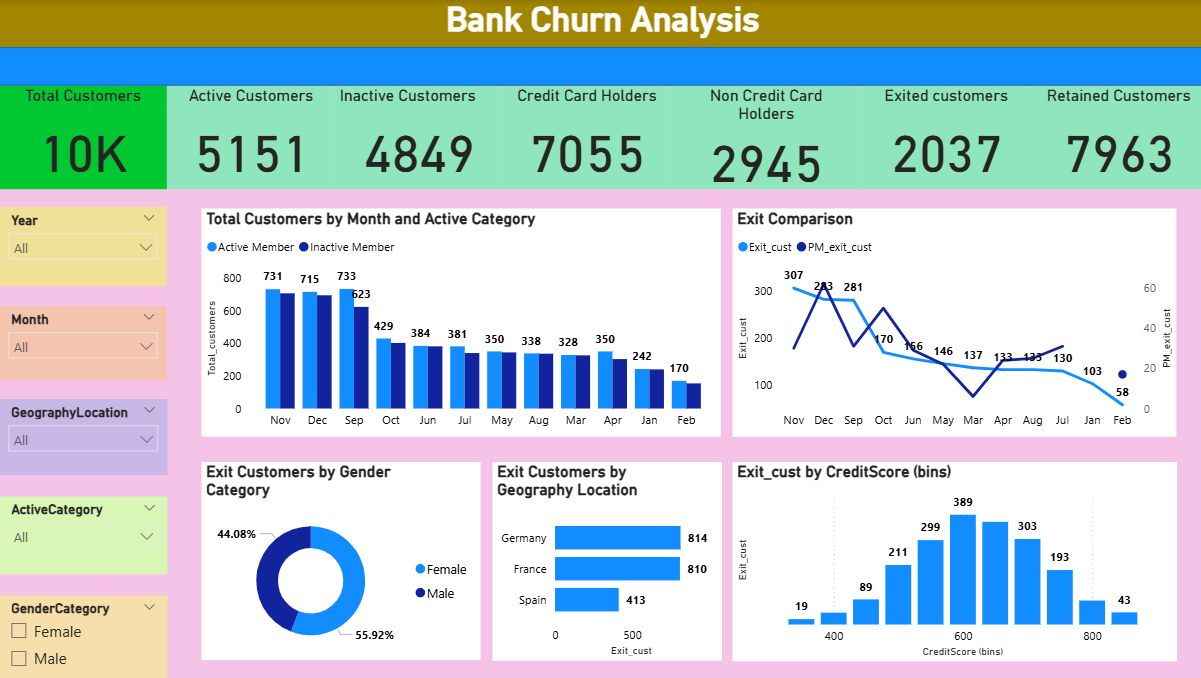

The dashboard page shown, as its layout file describes it:
{"tool":"powerbi","page":{"name":"Churn Analysis","canvas":[1280,720],"ordinal":0},"visuals":[{"type":"card","title":"Total Customers","fields":{"Values":["Table_1.Total_customers"]},"box":[0,90.7,178.1,110.1],"z":0},{"type":"card","title":"Active Customers","fields":{"Values":["Table_1.Active_Cust"]},"box":[178.1,90.7,178.1,110.1],"z":1000},{"type":"card","title":"Inactive Customers","fields":{"Values":["Table_1.Inactive_cust"]},"box":[356.2,90.7,178.1,110.1],"z":2000},{"type":"card","title":"Credit Card Holders","fields":{"Values":["Table_1.CC_holder"]},"box":[534.3,90.7,178.1,110.1],"z":3000},{"type":"card","title":"Non Credit Card Holders","fields":{"Values":["Table_1.No_CC"]},"box":[712.6,90.7,202,109.8],"z":4000},{"type":"card","title":"Exited customers","fields":{"Values":["Table_1.Exit_cust"]},"box":[914.6,90.7,179.7,109.8],"z":5000},{"type":"card","title":"Retained Customers","fields":{"Values":["Table_1.Retained_cust"]},"box":[1094.3,90.7,186.1,109.8],"z":6000},{"type":"clusteredColumnChart","title":"Total Customers by Month and Active Category","fields":{"Category":["Calendar_formula.Month"],"Y":["Table_1.Total_customers"],"Series":["Active customers.ActiveCategory"]},"box":[214.7,221.1,550.4,241.8],"z":7000},{"type":"donutChart","title":"Exit Customers by Gender Category","fields":{"Category":["Gender.GenderCategory"],"Y":["Table_1.Exit_cust"]},"box":[214.7,489.9,295.9,210],"z":8000},{"type":"clusteredBarChart","title":"Exit Customers by Geography Location","fields":{"Y":["Table_1.Exit_cust"],"Category":["Geography.GeographyLocation"]},"box":[522.5,490.1,243,210.6],"z":9000},{"type":"lineChart","title":"Exit Comparison","fields":{"Y":["Table_1.Exit_cust"],"Category":["Calendar_formula.Month"],"Y2":["Table_1.PM_exit_cust"]},"box":[777.8,221.1,470.8,241.8],"z":10000},{"type":"slicer","fields":{"Values":["Calendar_formula.Year"]},"box":[0,220.2,178.1,84.2],"z":11000},{"type":"slicer","fields":{"Values":["Calendar_formula.Month"]},"box":[0,324.1,178.2,79],"z":12000},{"type":"slicer","fields":{"Values":["Geography.GeographyLocation"]},"box":[0,423.1,178.8,80.8],"z":13000},{"type":"slicer","fields":{"Values":["Active customers.ActiveCategory"]},"box":[0,526.9,178.8,82.7],"z":14000},{"type":"slicer","fields":{"Values":["Gender.GenderCategory"]},"box":[0,630.8,178.8,88.5],"z":15000},{"type":"shape","title":"Bank Churn Analysis","box":[0,0,1280.8,90.4],"z":16000},{"type":"clusteredColumnChart","fields":{"Category":["Bank_Churn.CreditScore (bins)"],"Y":["Table_1.Exit_cust"]},"box":[778,490,471,211],"z":16001}]}

Visuals, with their boxes in screenshot pixels (x1, y1, x2, y2), scaled from the page's 1280x720 canvas onto the 1201x678 screenshot:
"Total Customers" card: {"x1": 0, "y1": 85, "x2": 167, "y2": 189}
"Active Customers" card: {"x1": 167, "y1": 85, "x2": 334, "y2": 189}
"Inactive Customers" card: {"x1": 334, "y1": 85, "x2": 501, "y2": 189}
"Credit Card Holders" card: {"x1": 501, "y1": 85, "x2": 668, "y2": 189}
"Non Credit Card Holders" card: {"x1": 669, "y1": 85, "x2": 858, "y2": 189}
"Exited customers" card: {"x1": 858, "y1": 85, "x2": 1027, "y2": 189}
"Retained Customers" card: {"x1": 1027, "y1": 85, "x2": 1200, "y2": 189}
"Total Customers by Month and Active Category" clusteredColumnChart: {"x1": 201, "y1": 208, "x2": 718, "y2": 436}
"Exit Customers by Gender Category" donutChart: {"x1": 201, "y1": 461, "x2": 479, "y2": 659}
"Exit Customers by Geography Location" clusteredBarChart: {"x1": 490, "y1": 462, "x2": 718, "y2": 660}
"Exit Comparison" lineChart: {"x1": 730, "y1": 208, "x2": 1172, "y2": 436}
slicer - Calendar_formula.Year: {"x1": 0, "y1": 207, "x2": 167, "y2": 287}
slicer - Calendar_formula.Month: {"x1": 0, "y1": 305, "x2": 167, "y2": 380}
slicer - Geography.GeographyLocation: {"x1": 0, "y1": 398, "x2": 168, "y2": 475}
slicer - Active customers.ActiveCategory: {"x1": 0, "y1": 496, "x2": 168, "y2": 574}
slicer - Gender.GenderCategory: {"x1": 0, "y1": 594, "x2": 168, "y2": 677}
"Bank Churn Analysis" shape: {"x1": 0, "y1": 0, "x2": 1200, "y2": 85}
clusteredColumnChart - Bank_Churn.CreditScore (bins) x Table_1.Exit_cust: {"x1": 730, "y1": 461, "x2": 1172, "y2": 660}
